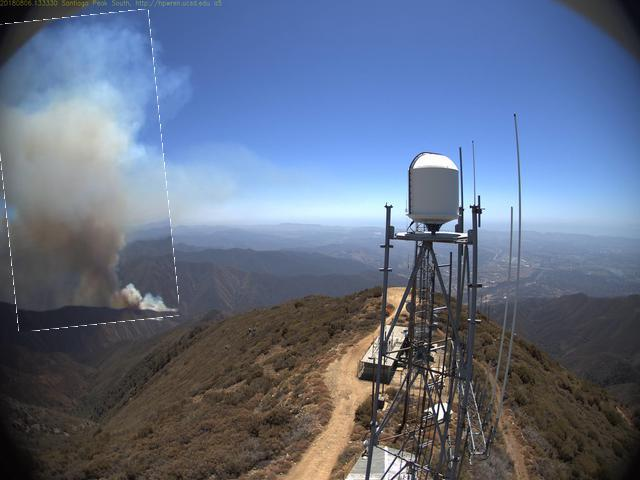smoke: (1, 14, 173, 330)
